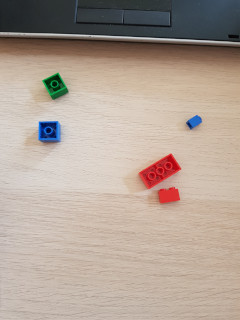1x1 blue: (187, 114, 203, 131)
1x2 red: (157, 185, 181, 203)
2x2 blue: (38, 121, 61, 141)
2x2 green: (42, 73, 69, 99)
2x4 red: (139, 154, 183, 188)
